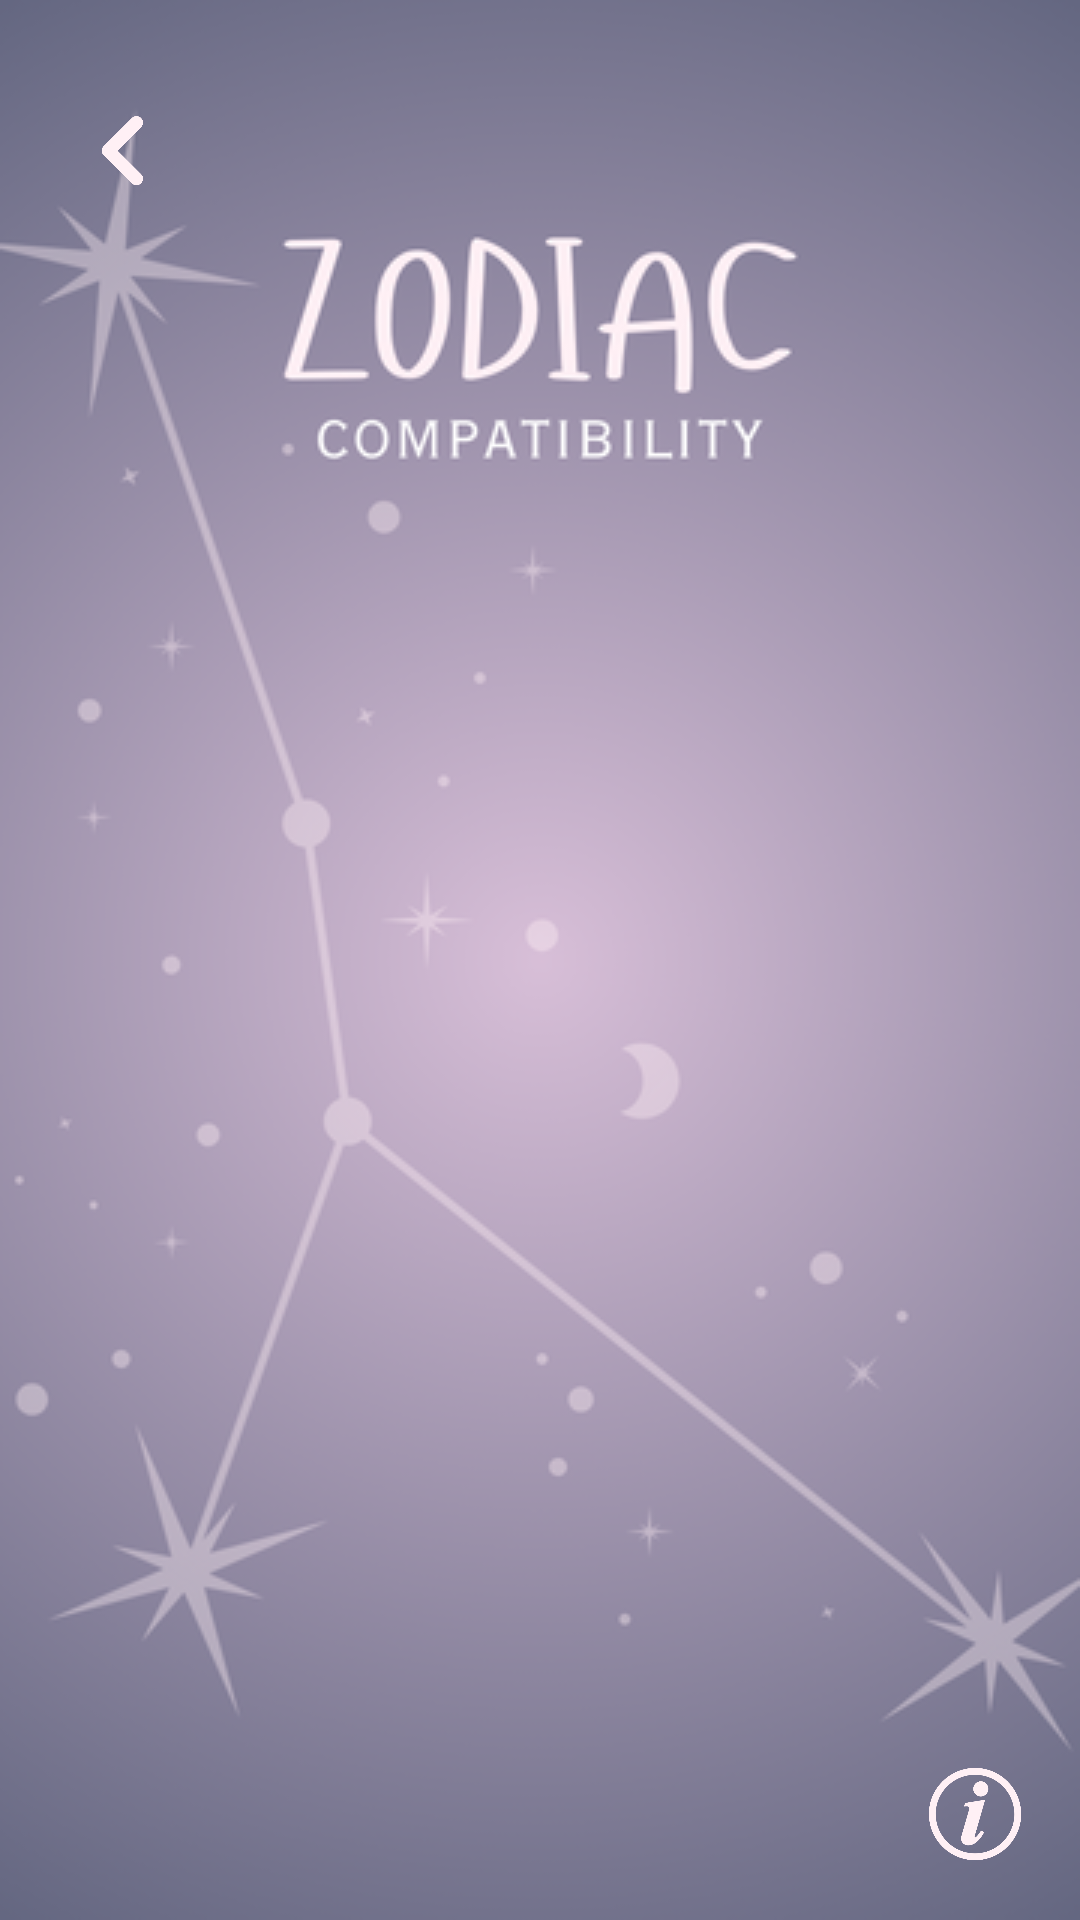

Locate icon controls on the screen. Image size 1080w x 1920h, boxes as [x1=x1, y1=y1, x2=x2, y2=y2].
info: [x1=929, y1=1768, x2=1021, y2=1860]
